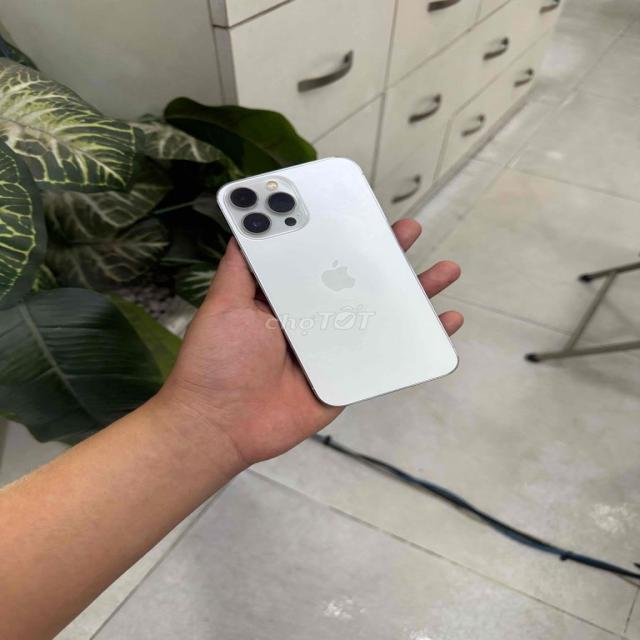gen_12_13: (213, 154, 458, 408)
